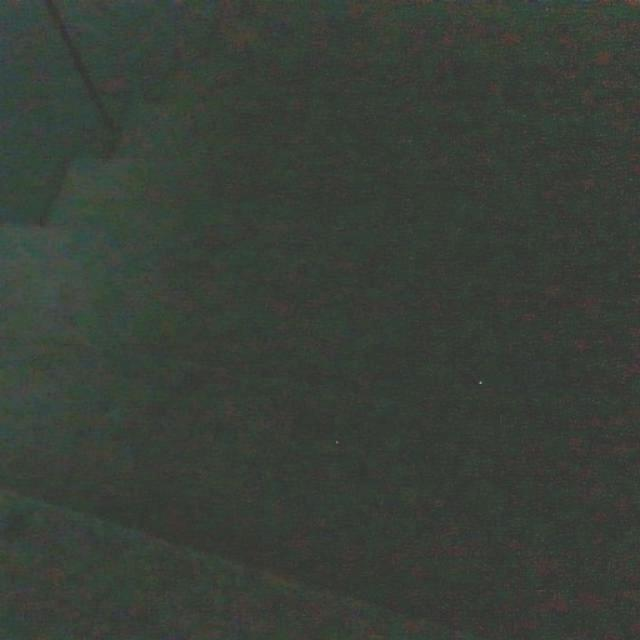stair: (20, 52, 621, 576)
